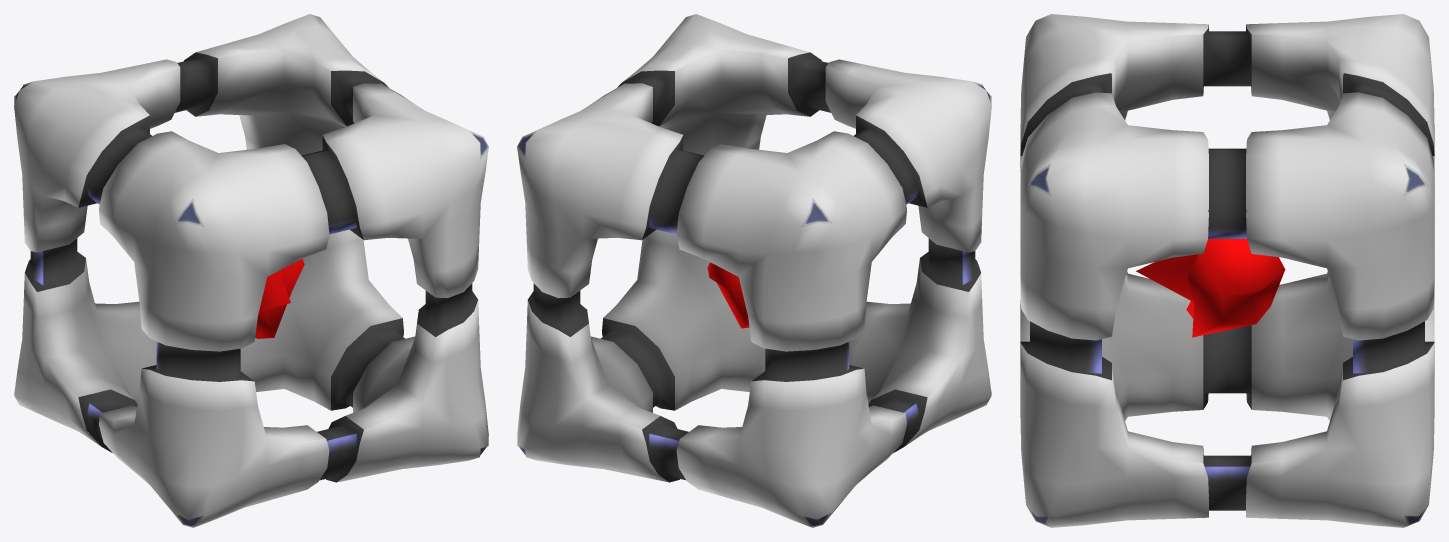
Rendered from cubo2.dae.
3 views of the same model, side by side, from view 1: azimuth 30°, elevation 25°; view 2: azimuth 150°, elevation 25°; view 3: azimuth 270°, elevation 25° (orthographic). The views are drawn at different scales.
Visible parts, largest first — view 1: Cube; view 2: Cube; view 3: Cube.
Part boxes in pixels (x1=…): Cube: x1=14, y1=14, x2=488, y2=527; Cube: x1=517, y1=14, x2=991, y2=527; Cube: x1=1020, y1=14, x2=1434, y2=527.
Size of the model in its own units: 7.95 by 7.95 by 7.95.
1 material, 1 textured.
